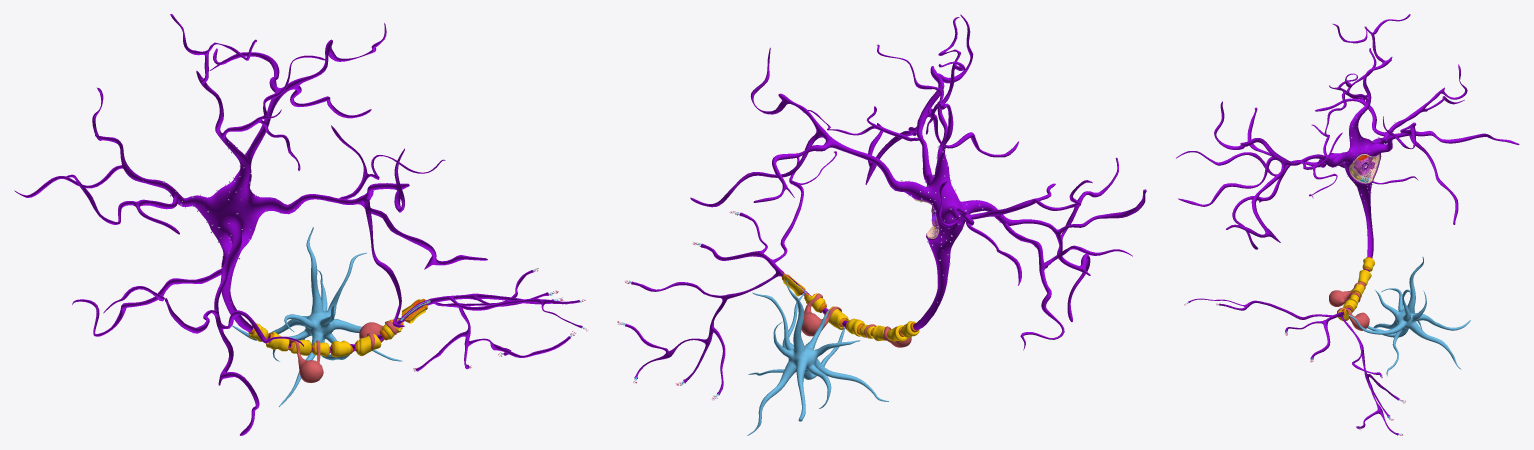
File: Neuron.glb
The picture shows the model from 3 angles, left to right: view 1: azimuth 30°, elevation 25°; view 2: azimuth 150°, elevation 25°; view 3: azimuth 270°, elevation 25°; orthographic projection. The views are drawn at different scales.
Parts seen in each view (by area): view 1: Neuron_Body_Cell, Astrocyte, Oligodendrocyte_1; view 2: Neuron_Body_Cell, Astrocyte, Oligodendrocyte_2; view 3: Neuron_Body_Cell, Astrocyte, Oligodendrocyte_1, Neuron_Membrane.
Boxes of the visible parts, x1=… form: Neuron_Body_Cell: x1=14, y1=14, x2=582, y2=435; Astrocyte: x1=232, y1=227, x2=401, y2=406; Oligodendrocyte_1: x1=288, y1=339, x2=323, y2=382; Neuron_Body_Cell: x1=625, y1=14, x2=1146, y2=395; Astrocyte: x1=747, y1=280, x2=888, y2=435; Oligodendrocyte_2: x1=801, y1=293, x2=841, y2=336; Neuron_Body_Cell: x1=1176, y1=14, x2=1519, y2=435; Astrocyte: x1=1348, y1=256, x2=1470, y2=376; Oligodendrocyte_1: x1=1329, y1=282, x2=1365, y2=306; Neuron_Membrane: x1=1349, y1=154, x2=1380, y2=183.
Size of what is drawn, in the model's own units: 423 by 336 by 340.
